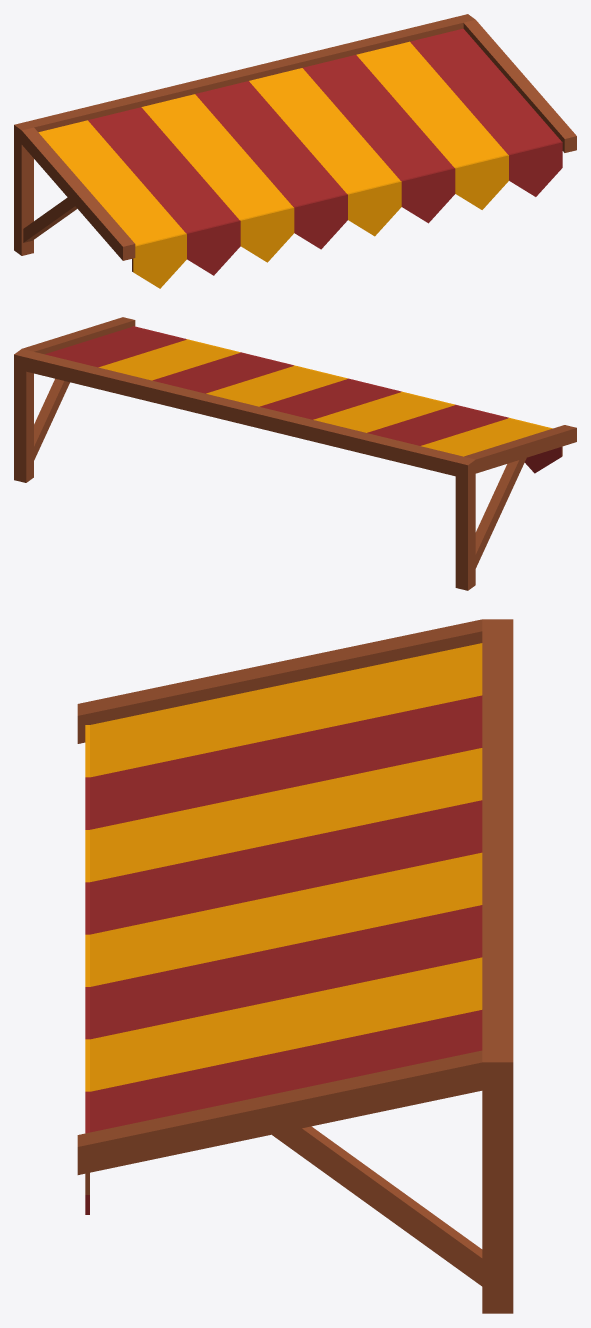
Rendered from Prop_Fantasy_Awning_Cloth_01.FBX.
3 renders of one model, top to bottom at view 1: azimuth 30°, elevation 25°; view 2: azimuth 150°, elevation 25°; view 3: azimuth 270°, elevation 25°, orthographic. The views are drawn at different scales.
Parts seen in each view (by area): view 1: Prop_Fantasy_Awning_Cloth_01; view 2: Prop_Fantasy_Awning_Cloth_01; view 3: Prop_Fantasy_Awning_Cloth_01.
Boxes of the visible parts, left/top/right/bottom form: Prop_Fantasy_Awning_Cloth_01: left=14, top=14, right=576, bottom=288; Prop_Fantasy_Awning_Cloth_01: left=14, top=317, right=576, bottom=590; Prop_Fantasy_Awning_Cloth_01: left=77, top=619, right=513, bottom=1313.
Bounding box in the file's own units: 3460 × 915 × 1439.
